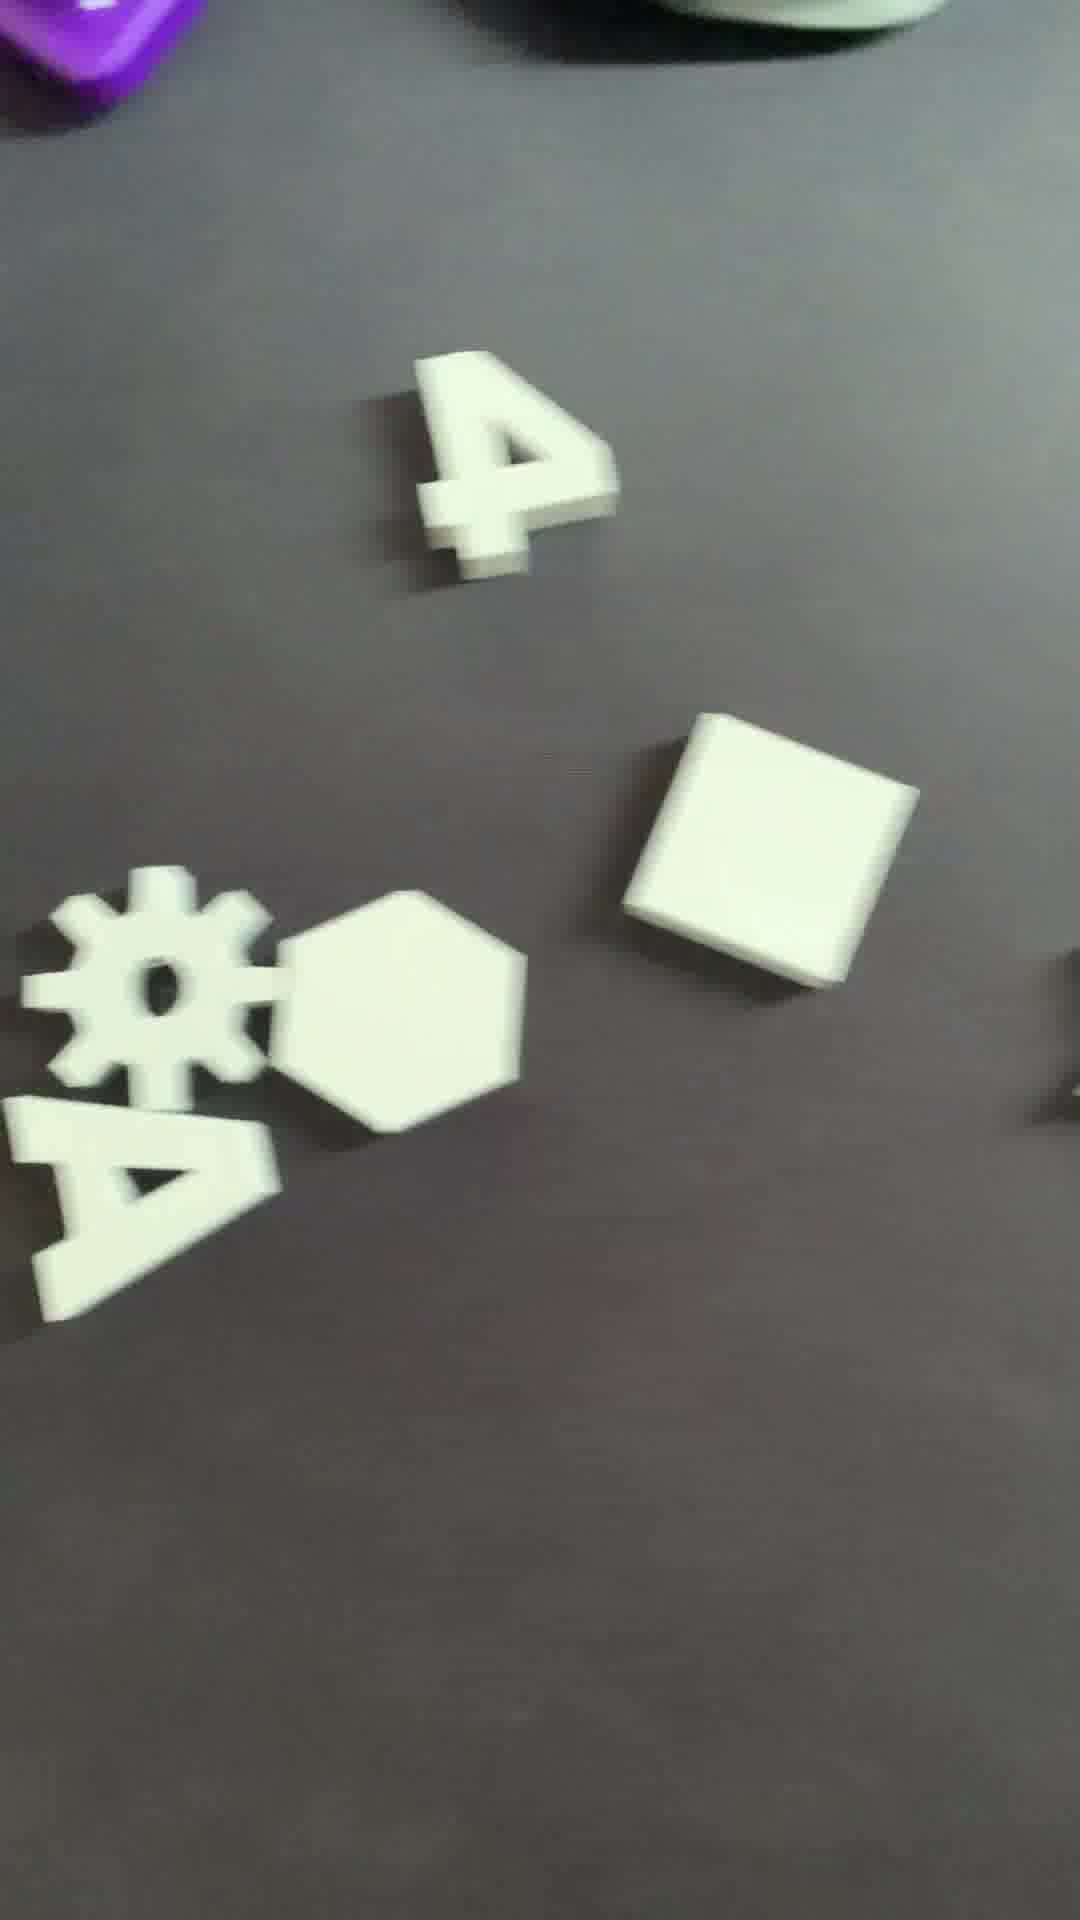Gray A-letter: (1, 1081, 284, 1338)
Gray four: (384, 344, 632, 574)
Gray gear: (33, 862, 278, 1120)
Gray hexagon: (276, 880, 539, 1155)
Gray square: (622, 699, 920, 982)
